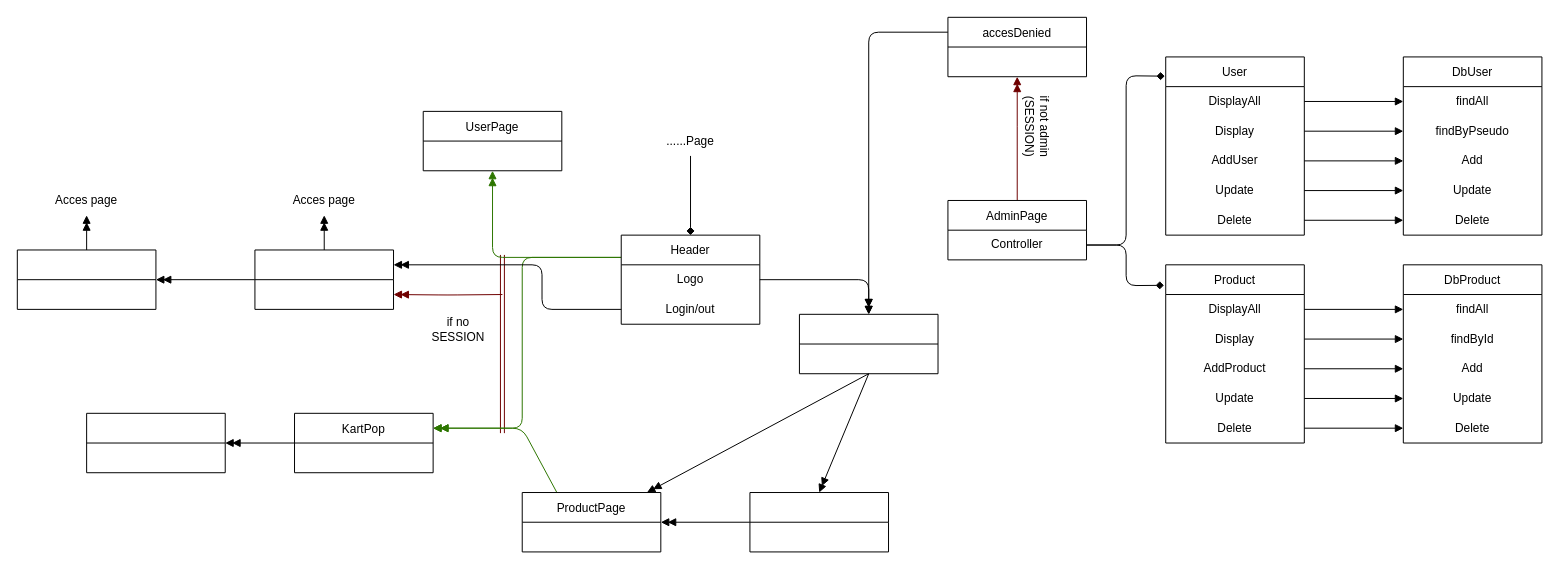
The diagram is 1559 pixels wide and 569 high, and some of its shapes have lost their labels. The centre of each missing label's shape, as x and y in pixels:
"HomePage" belongs at point 868,343.
"LoginPop" belongs at point 324,279.
"Payment" belongs at point 155,442.
"SearchPage" belongs at point 819,522.
"SignInPop" belongs at point 86,279.
